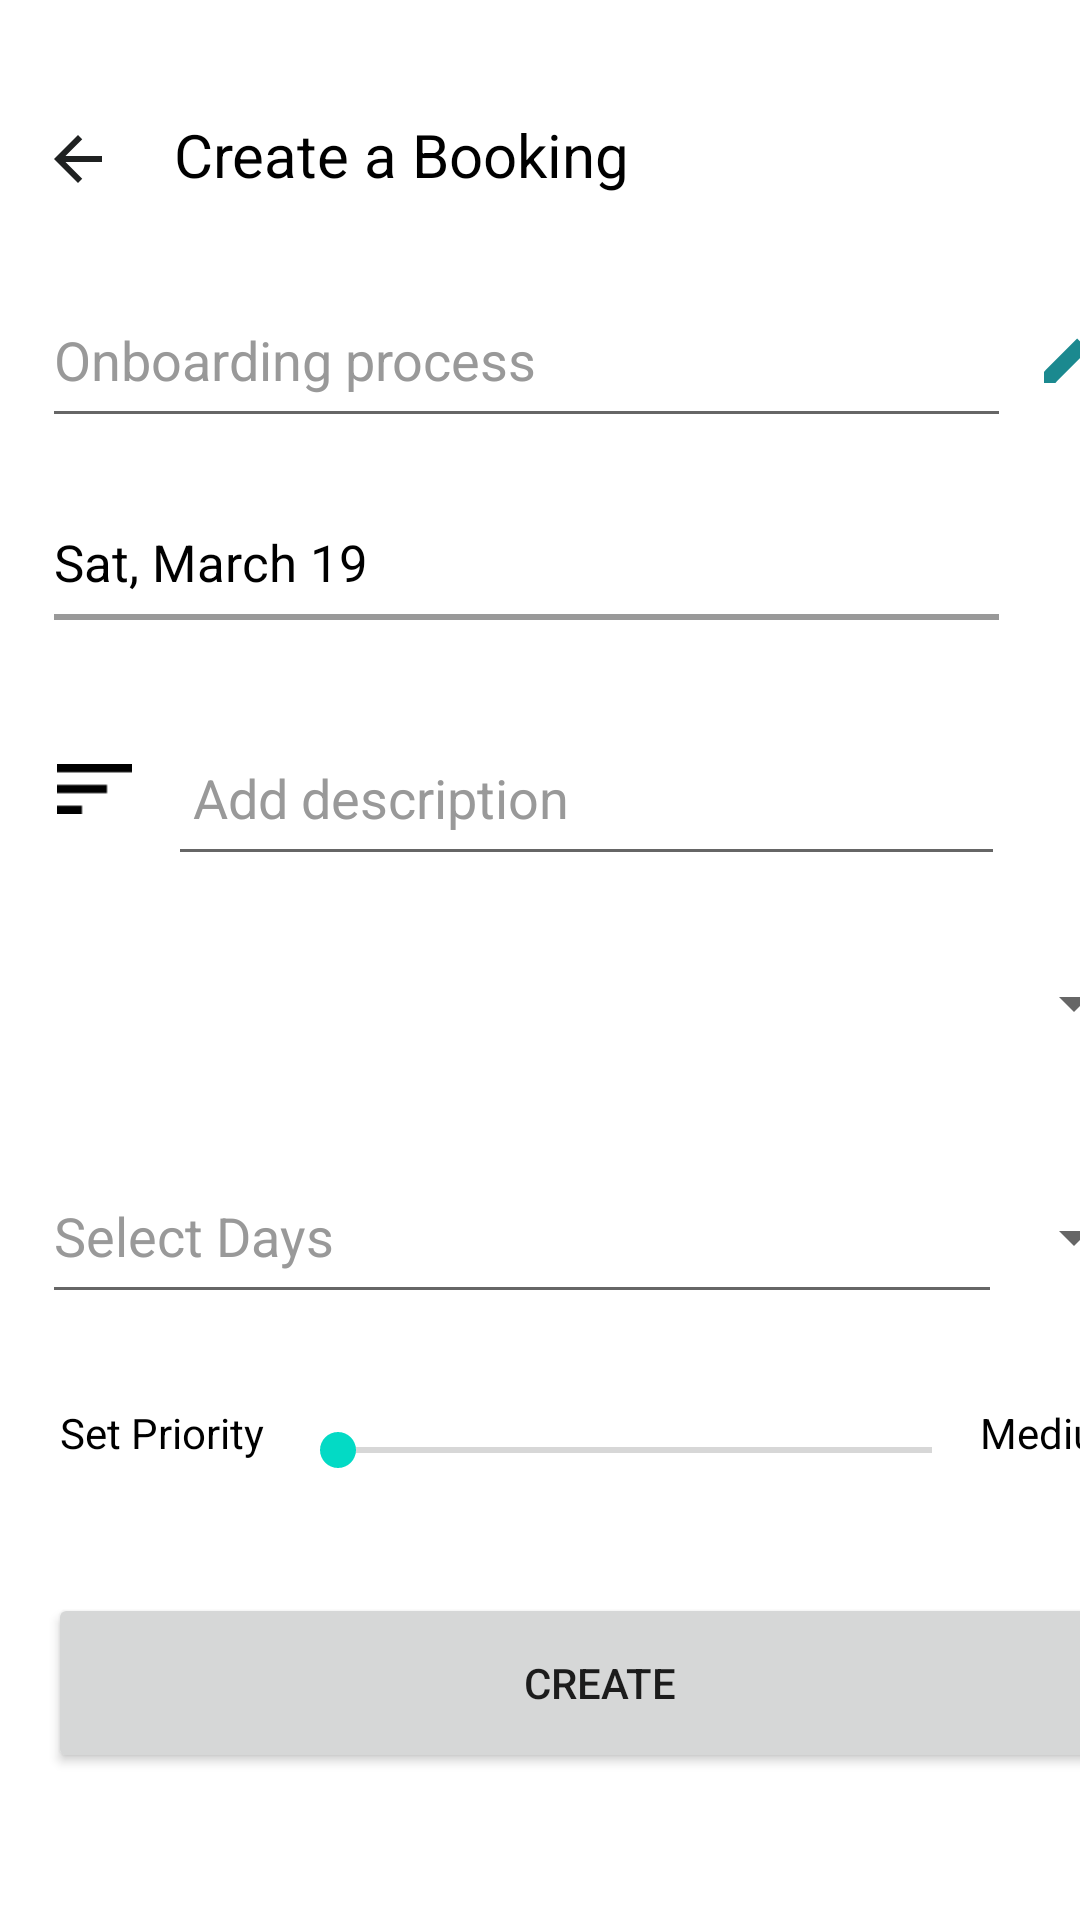

Where to tap for icons on this 1080*1920 app screen, as (x,y):
arrow back: (78,159)
